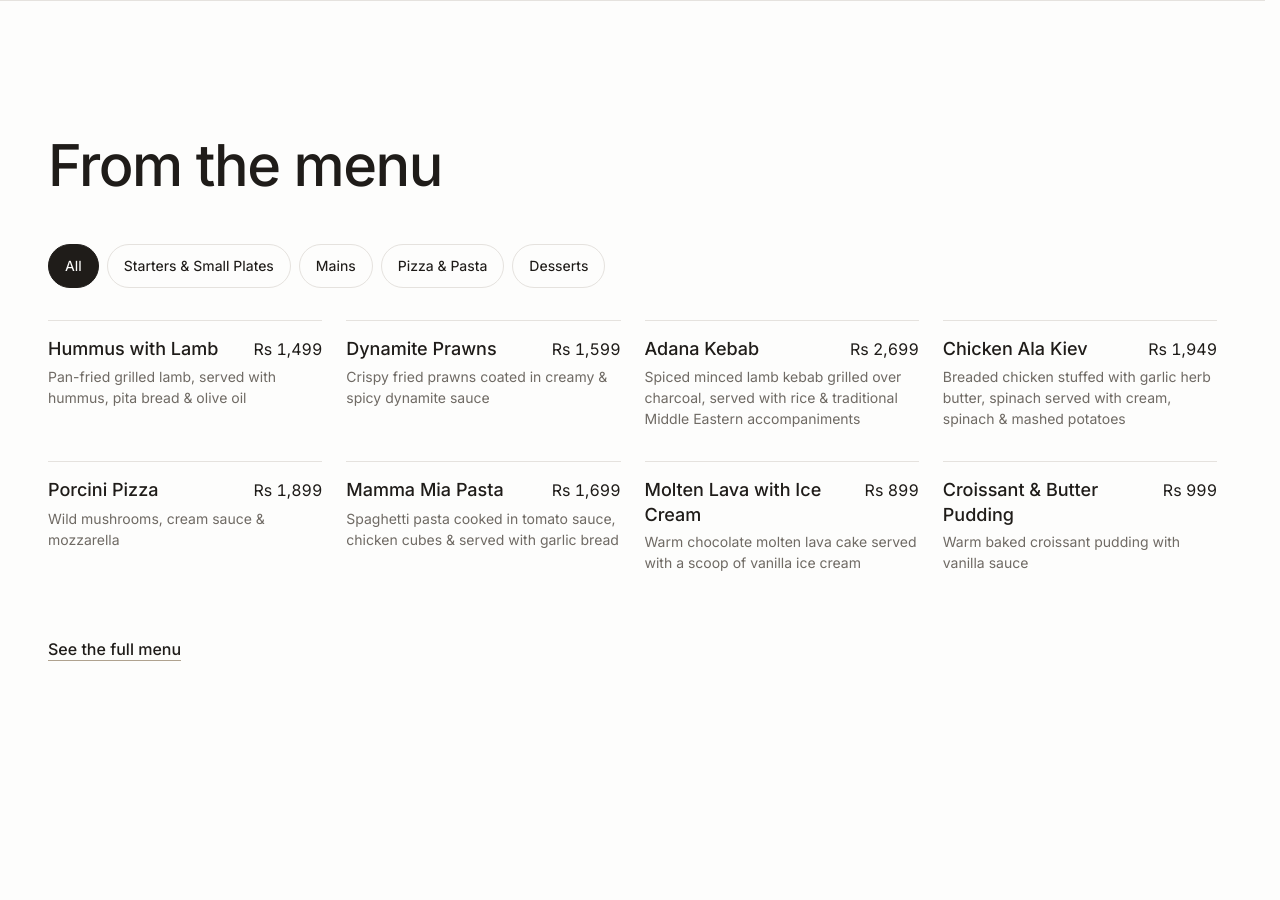
Scenario: MenuPreview › filters the featured dishes by group and announces the count
Click the button "Desserts" at (559, 266), box [512,244,605,288]
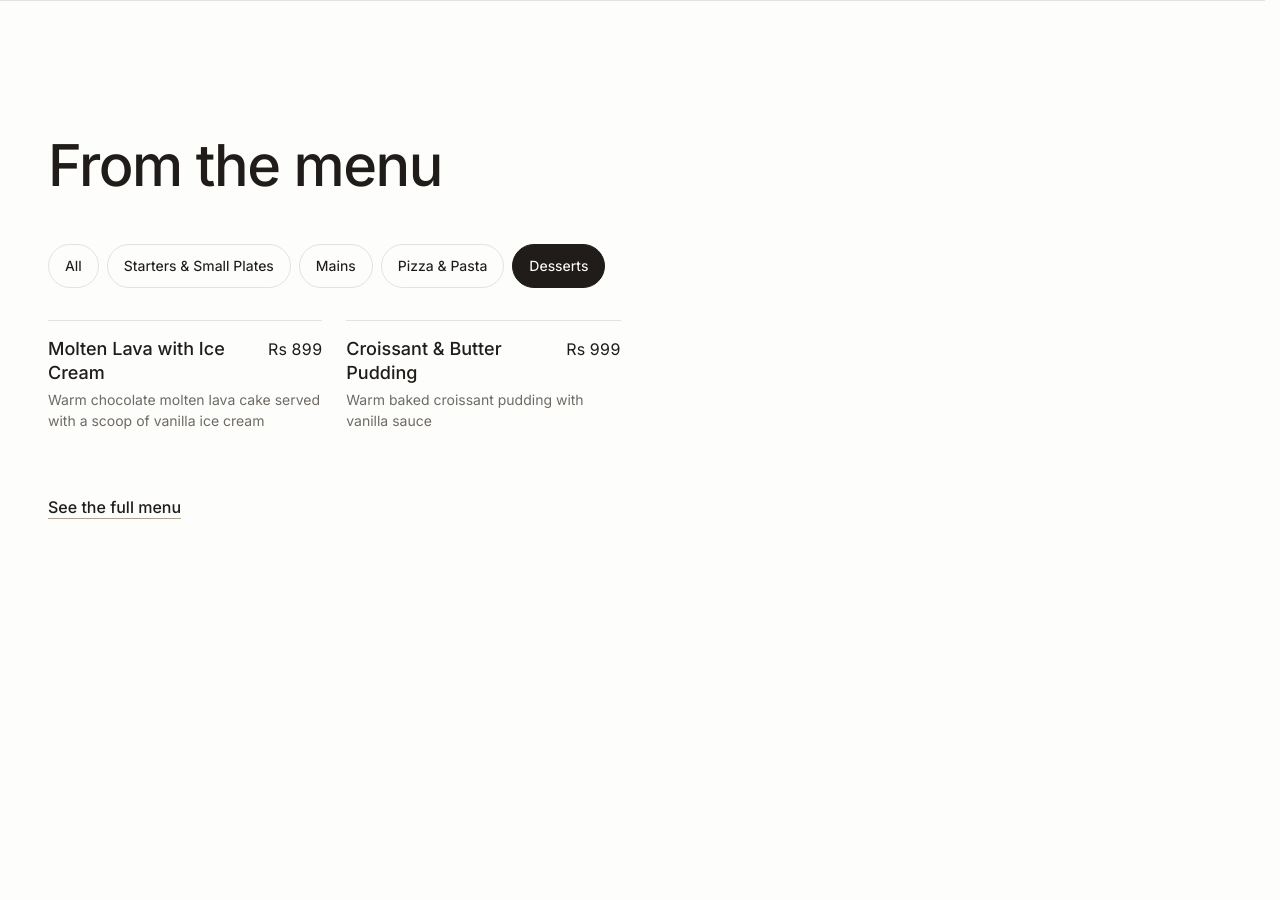
Expected: the heading "Molten Lava with Ice Cream" is shown, [48,337,252,386]
Now the number of list items is 2, box [48,320,322,432]; [346,320,621,432]
